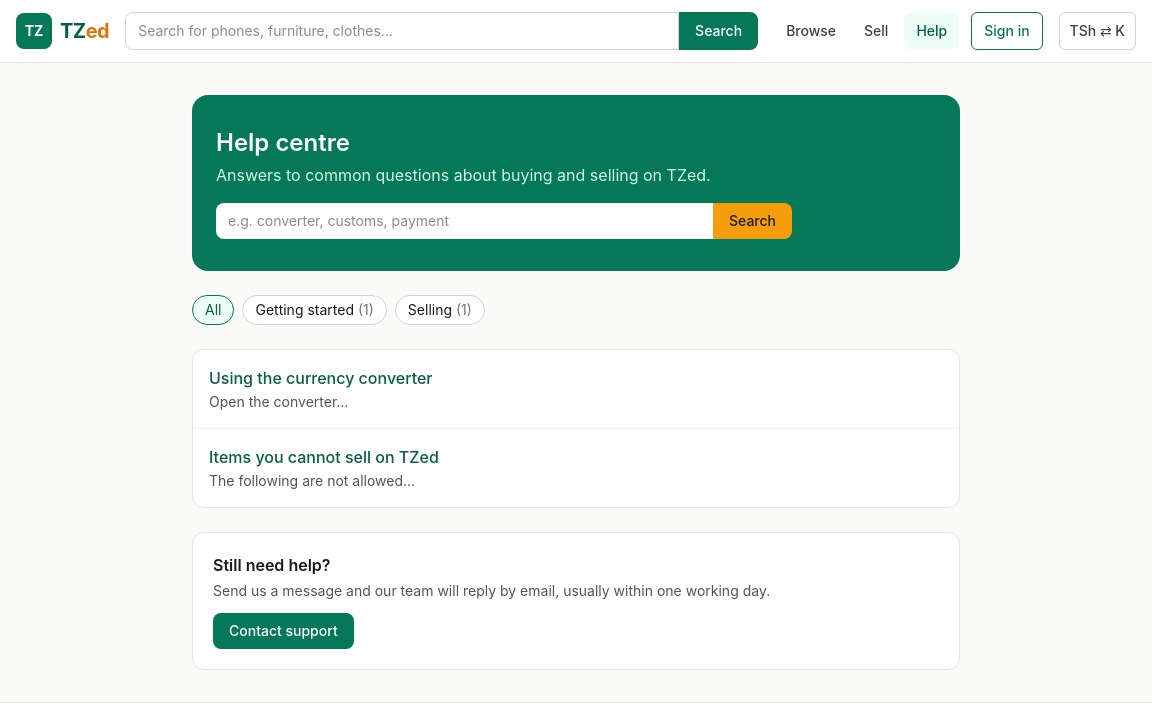
Test: Help centre › searches articles and sends the query to the API
expect the link "Items you cannot sell on TZed The following are not allowed…" is shown: met, box [209,447,439,489]
Type "conver" into the search field named "Search help articles". click: (464, 221)
box: [216,203,713,239]
Then press Enter
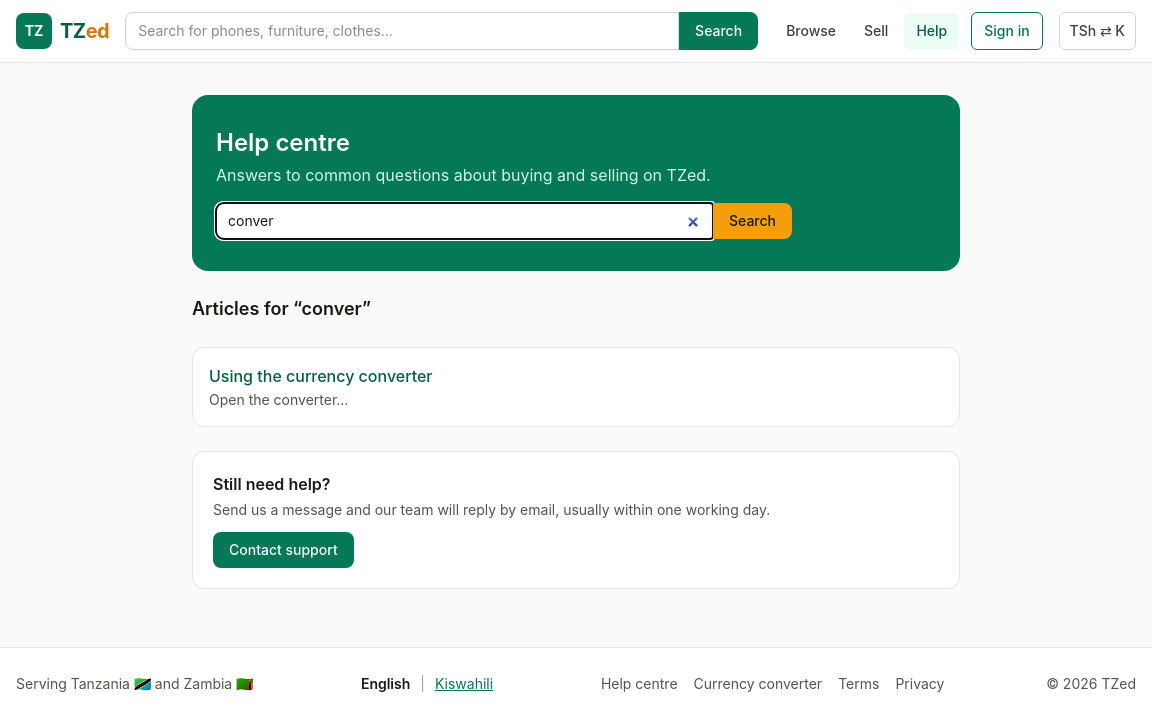
expect the heading "Articles for “conver”" is shown: met, box [192,298,371,319]
expect the link "Items you cannot sell" is gone: met
